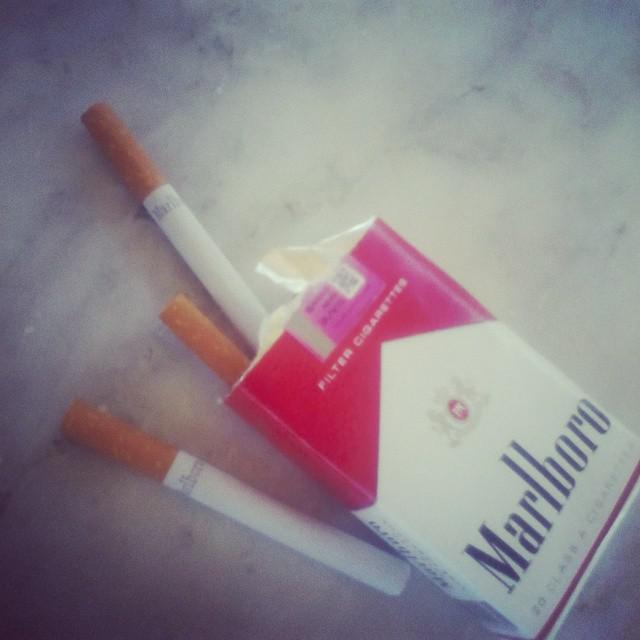marlboro_red: (279, 256, 609, 585)
